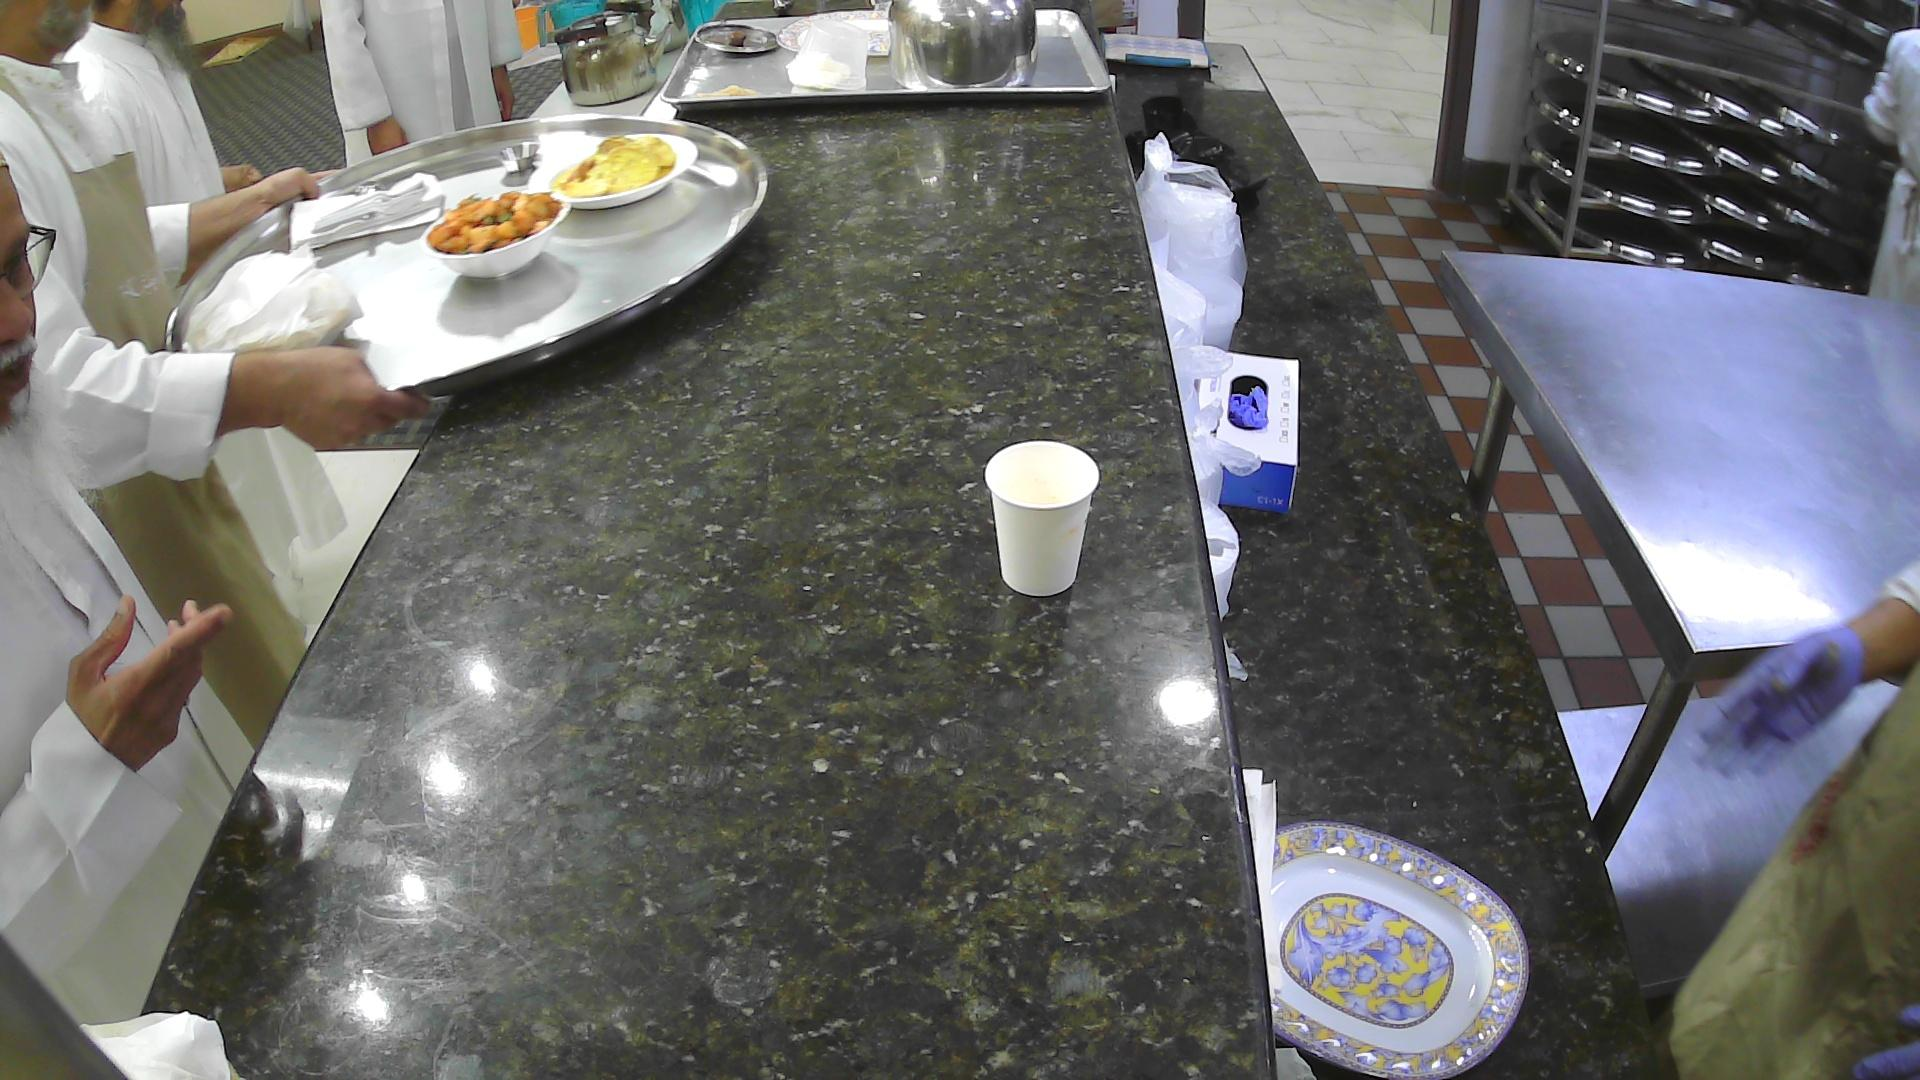thaal: (165, 112, 770, 405)
